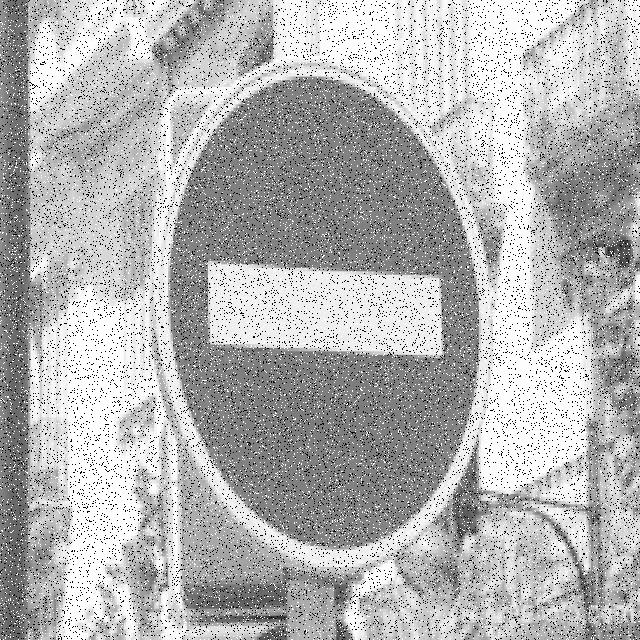no entry: (168, 73, 479, 543)
